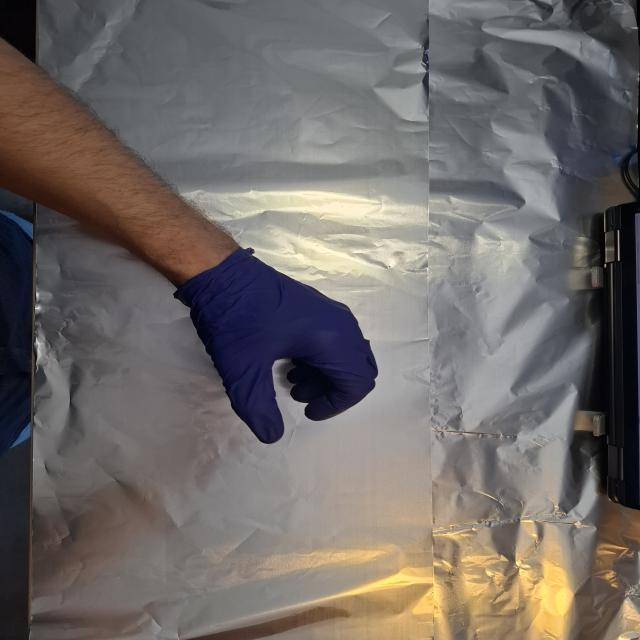glove_on: (181, 249, 382, 446)
